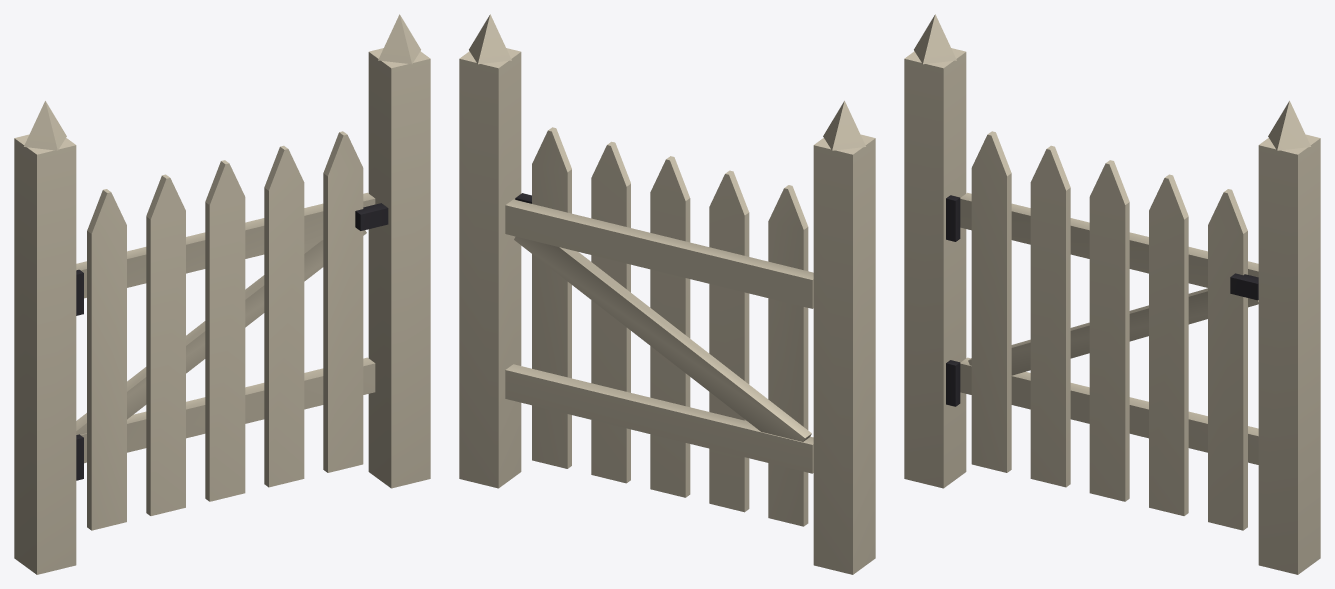
Rendered from fence_picket_gate.glb.
3 renders of one model, left to right at view 1: azimuth 30°, elevation 25°; view 2: azimuth 150°, elevation 25°; view 3: azimuth 330°, elevation 25°, orthographic.
Parts seen in each view (by area): view 1: door, fence_picket_gate; view 2: door, fence_picket_gate; view 3: door, fence_picket_gate.
Part boxes in pixels (x1=…): door: x1=76, y1=131, x2=388, y2=530; fence_picket_gate: x1=14, y1=14, x2=430, y2=574; door: x1=505, y1=127, x2=813, y2=526; fence_picket_gate: x1=459, y1=14, x2=875, y2=574; door: x1=946, y1=131, x2=1258, y2=530; fence_picket_gate: x1=904, y1=14, x2=1320, y2=574.
Size of the model in its own units: 1.01 by 1.12 by 0.11.
